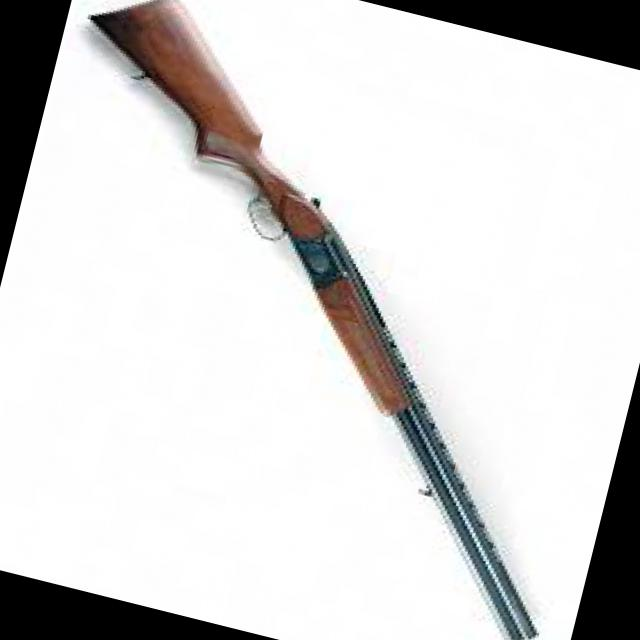long weapon: (72, 0, 560, 640)
